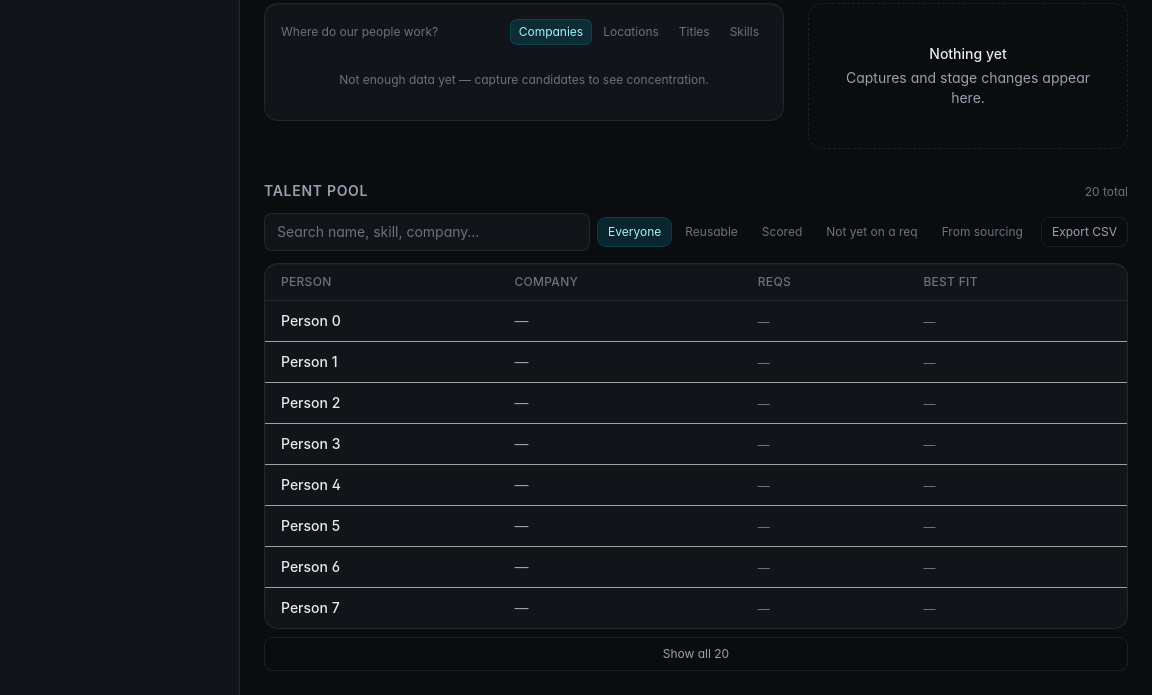
Test: 5. talent pool › expands on request
(page scrolled)
Click the button "Show all 20" at (696, 654), box [264,636,1128,670]
(page scrolled)
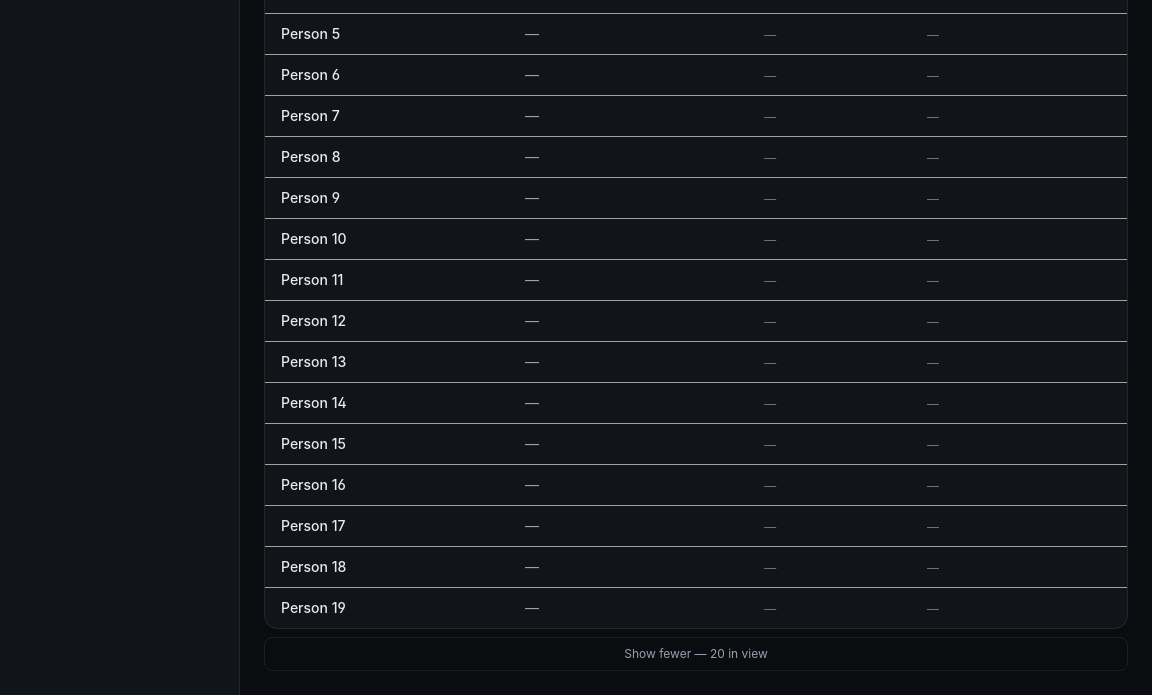
Now the link "Person 19" is shown, box [281,598,346,616]
